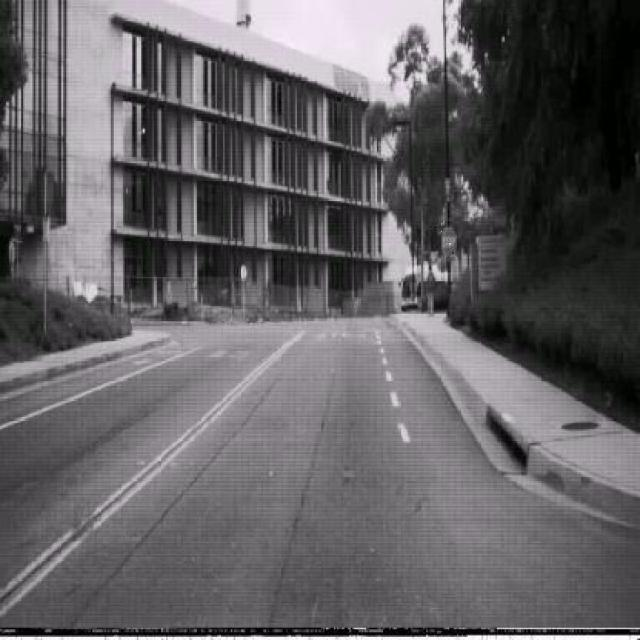stop: (441, 226, 457, 257)
